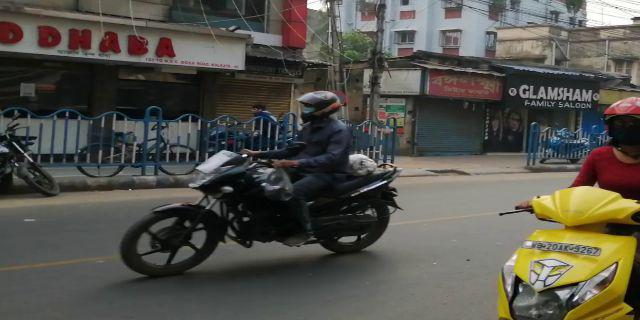Motorbike: (118, 88, 406, 277), (492, 95, 640, 320)
